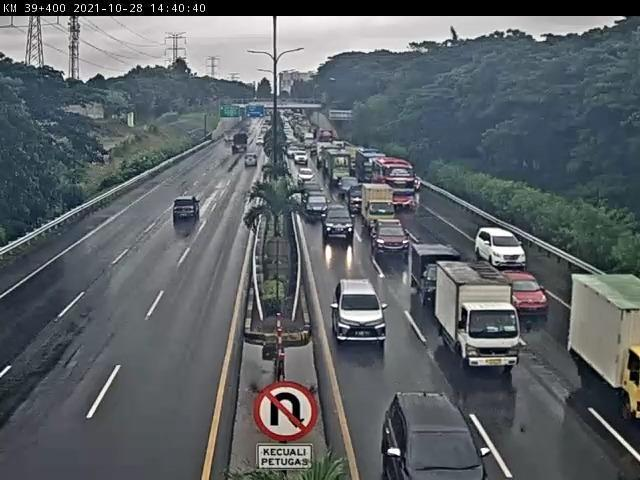bus: (376, 155, 418, 201)
car: (379, 392, 490, 480), (327, 271, 383, 336), (473, 225, 526, 267), (502, 271, 549, 317), (372, 215, 407, 249), (165, 200, 198, 232), (321, 206, 351, 240)
truck: (435, 258, 528, 373), (570, 275, 640, 411), (405, 237, 454, 291), (359, 181, 396, 230)
